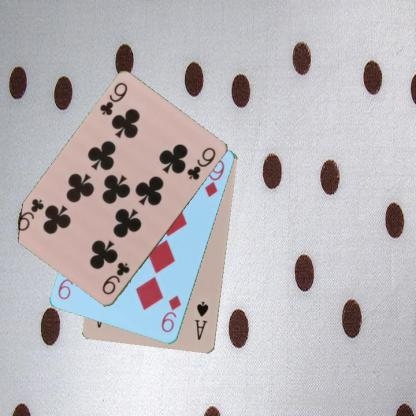9c: (97, 80, 129, 117), (100, 260, 132, 296)
9d: (159, 293, 182, 334)
As: (192, 300, 210, 342)
